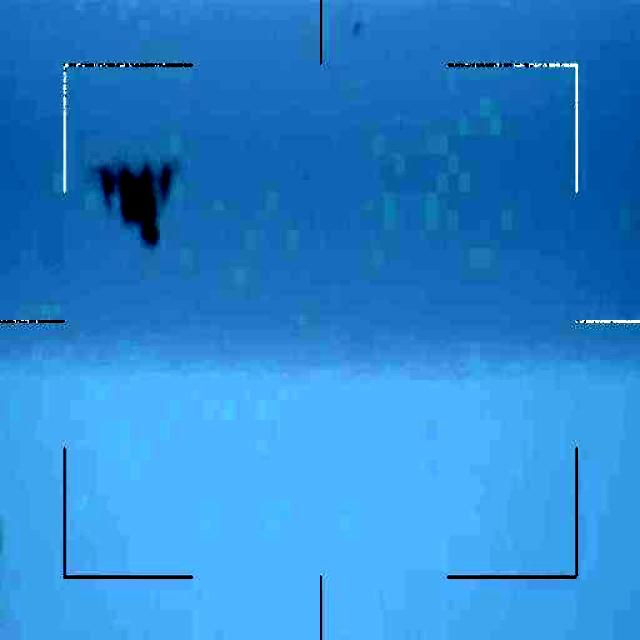bird: (96, 156, 180, 250)
